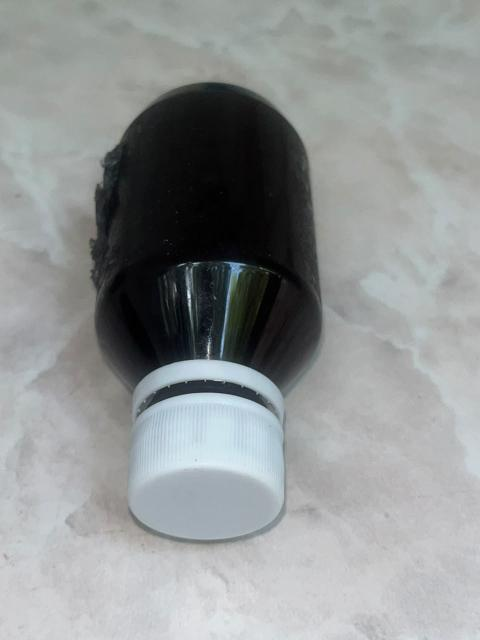HDPE: (79, 68, 342, 570)
